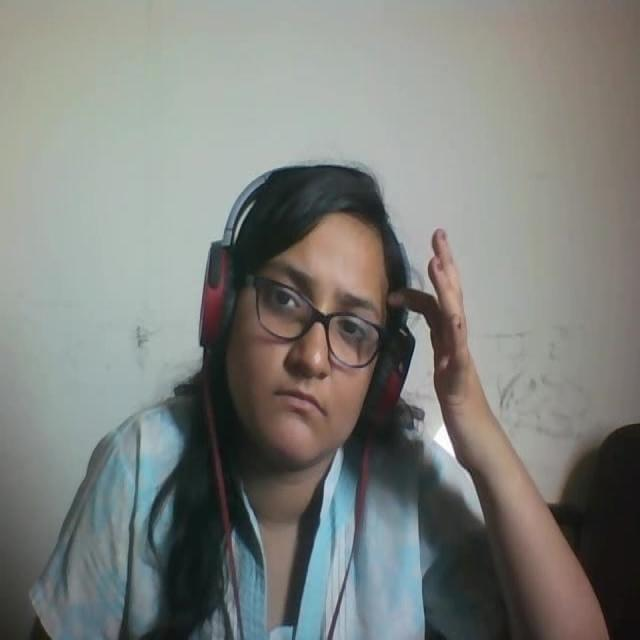Bored: (188, 144, 424, 471)
